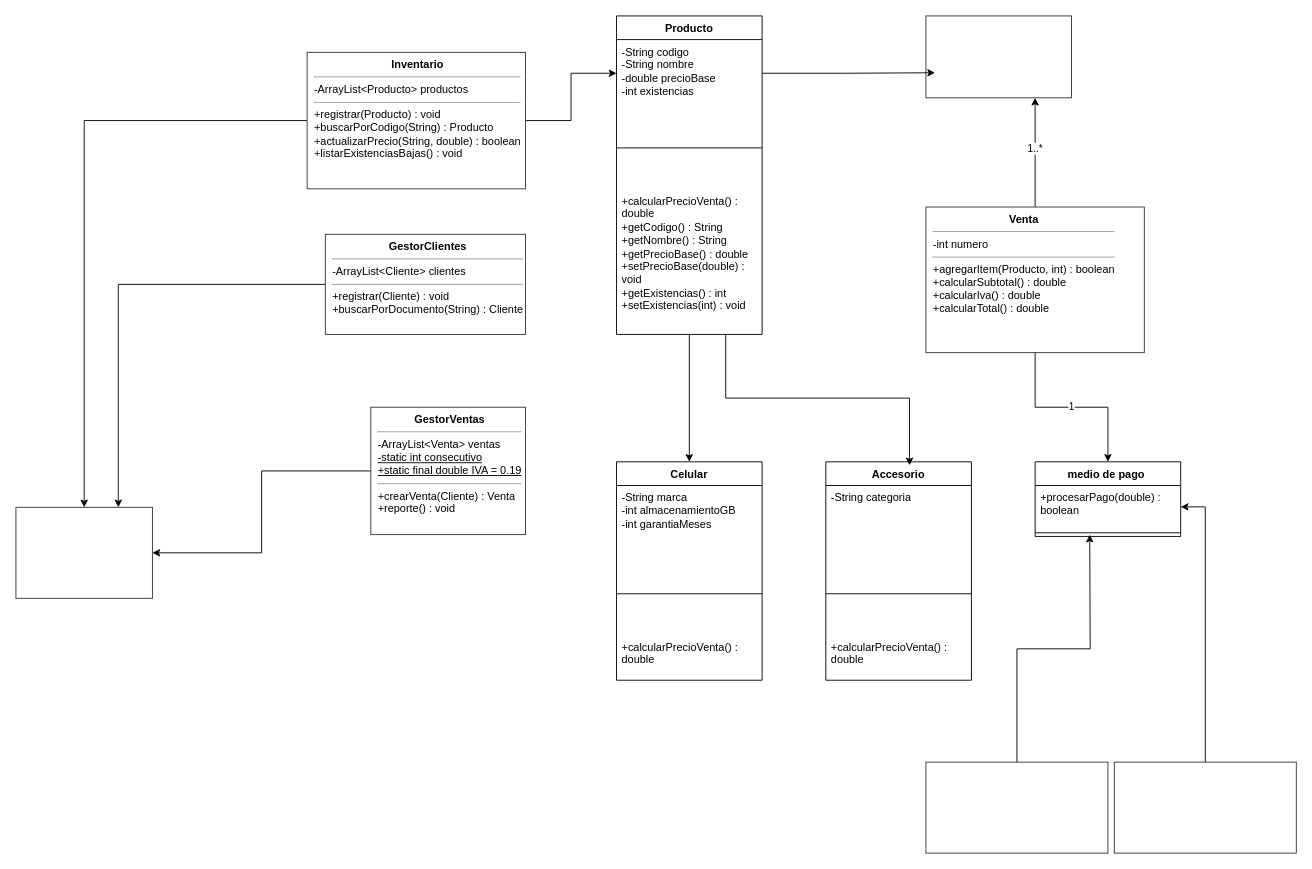
Some shapes in this 1312 by 869 pixel diagram are drawn without their labels. Here are the shapes that lost their labels. From the top down, the centre of each, then its label:
At point (998, 56): "ItemVenta -int cantidad +calcularSubtotal() : double".
At point (83, 552): "Main +static main(String[]) : void".
At point (1016, 807): "Efectivo -double valorRecibido +procesarPago(double) : boolean".
At point (1204, 807): "Tarjeta -String numeroTarjeta +procesarPago(double) : boolean".
